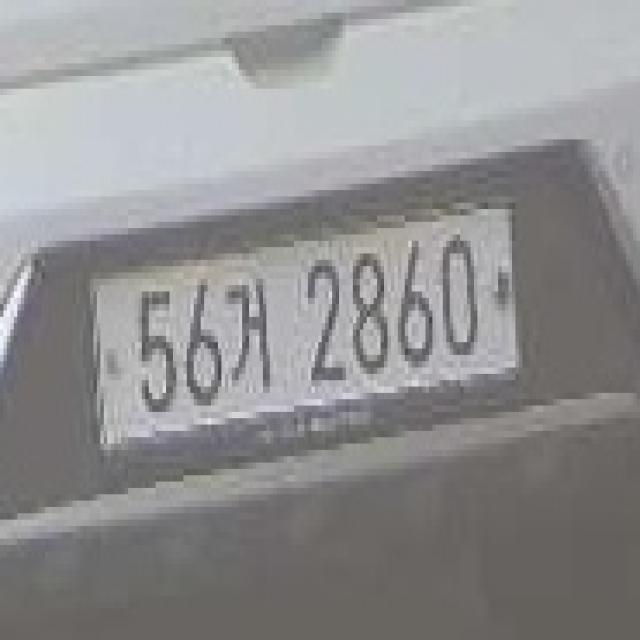plat: (85, 199, 523, 458)
